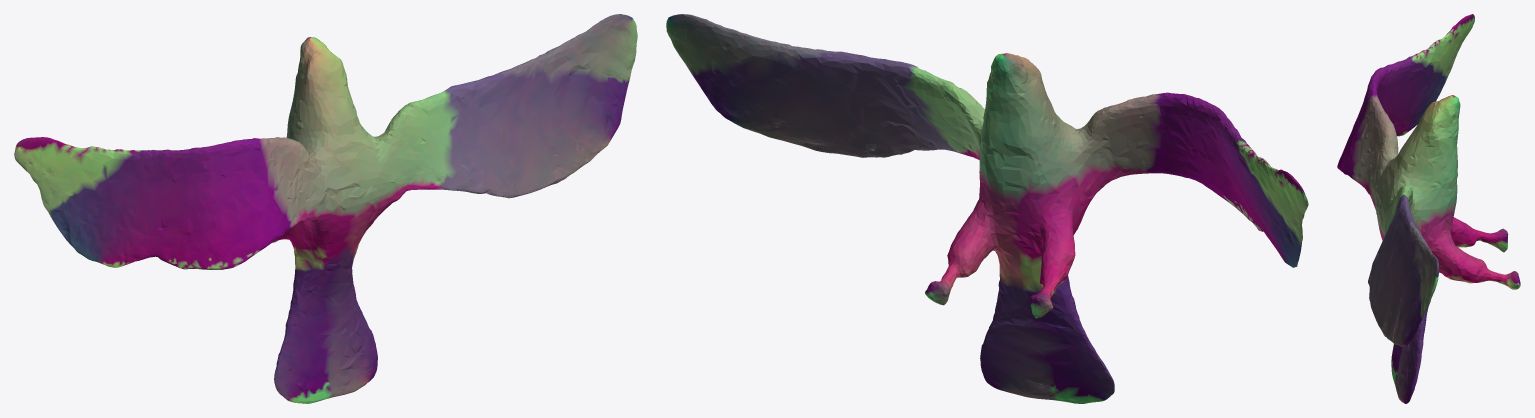
The model's file is bird2-15.off.obj.
3 views of the same model, side by side, from view 1: azimuth 30°, elevation 25°; view 2: azimuth 150°, elevation 25°; view 3: azimuth 270°, elevation 25° (orthographic). The views are drawn at different scales.
Bounding box in the file's own units: 1.59 × 0.8477 × 0.4732.
